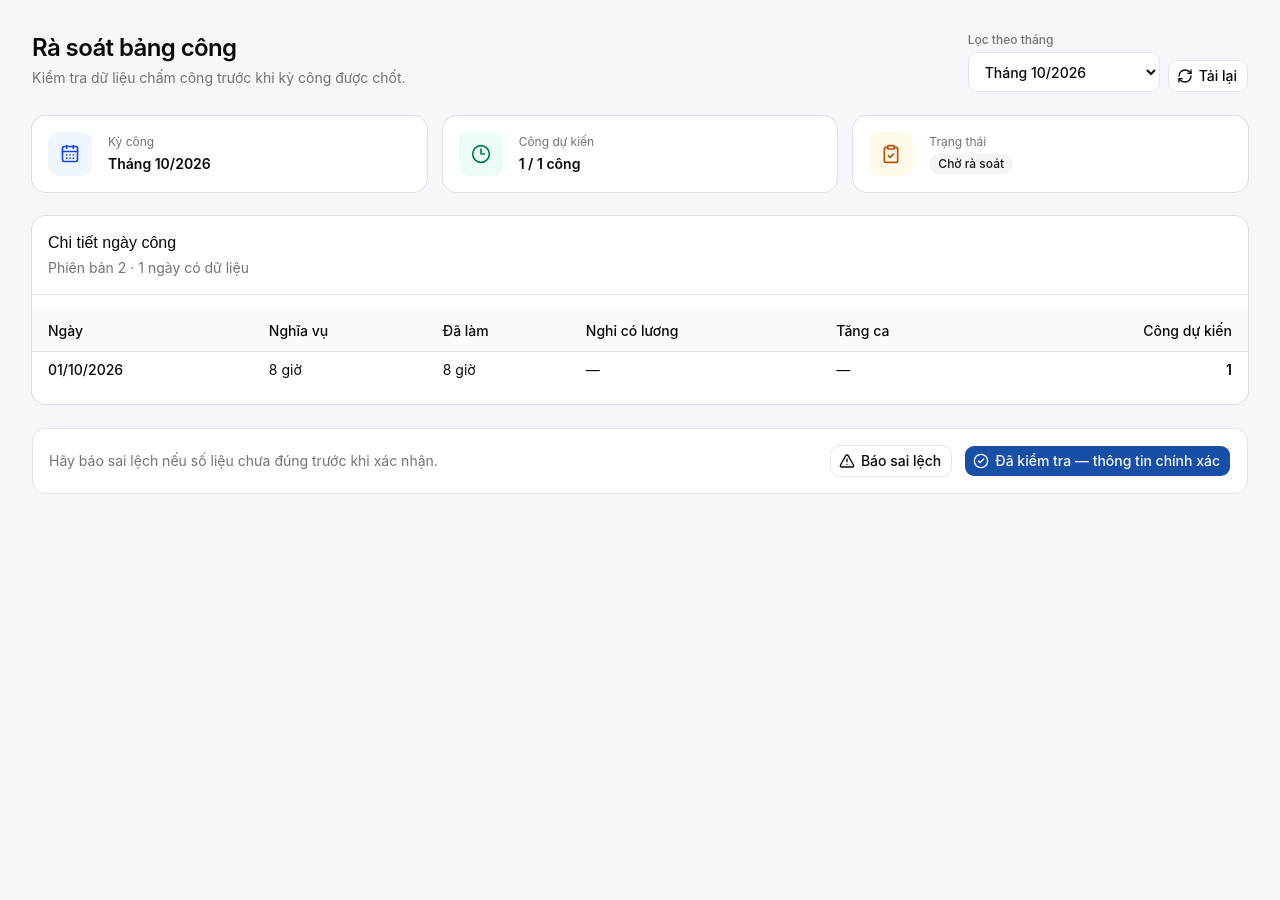
Test case: renders current review and requires an explicit acknowledgement confirmation
The width and height of the screenshot is (1280, 900).
Step 1. Click the button "Đã kiểm tra — thông tin chính xác" → click(1098, 460), box [964,444,1231,476]
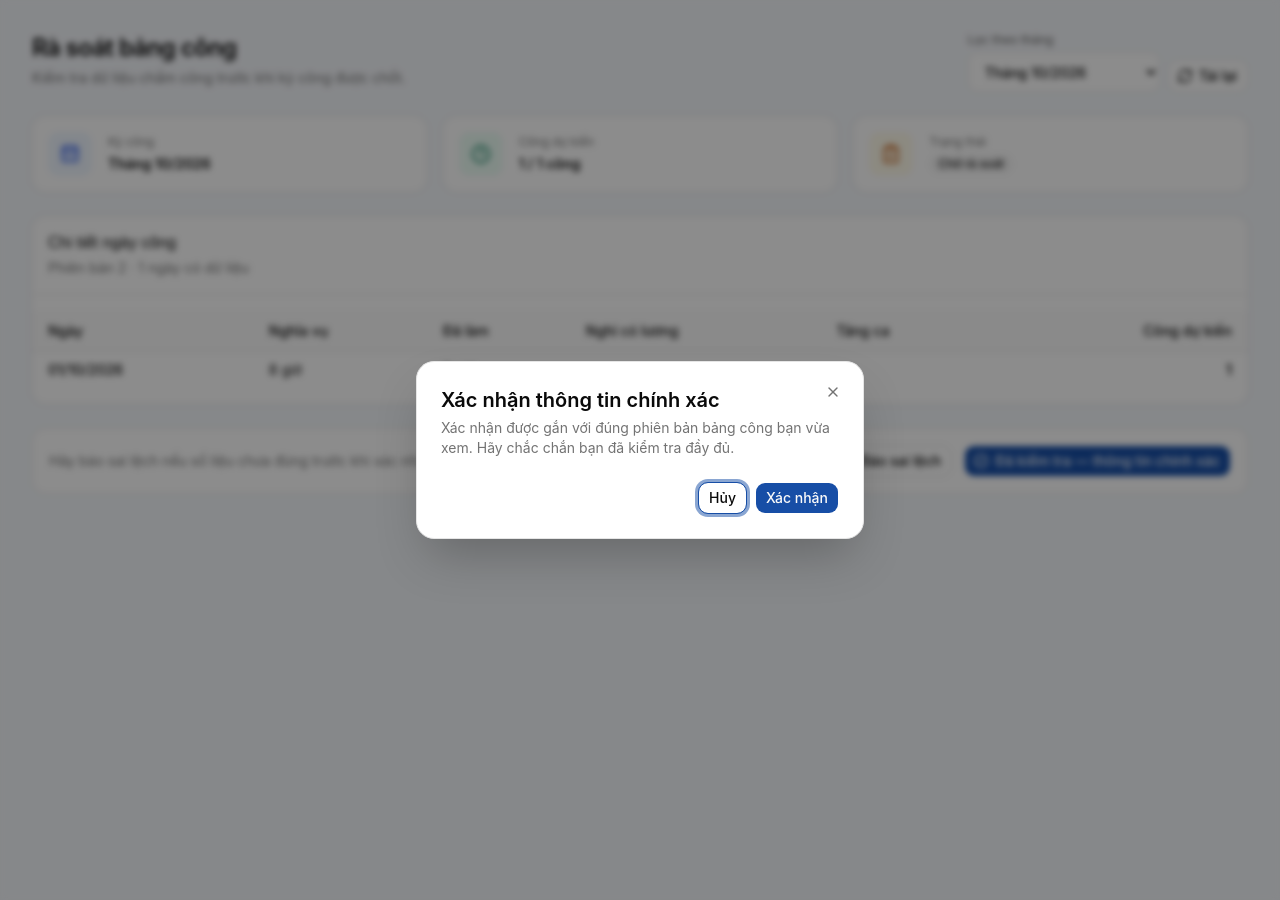
Now the text "Xác nhận thông tin chính xác" is shown, box [441,388,720,412]
